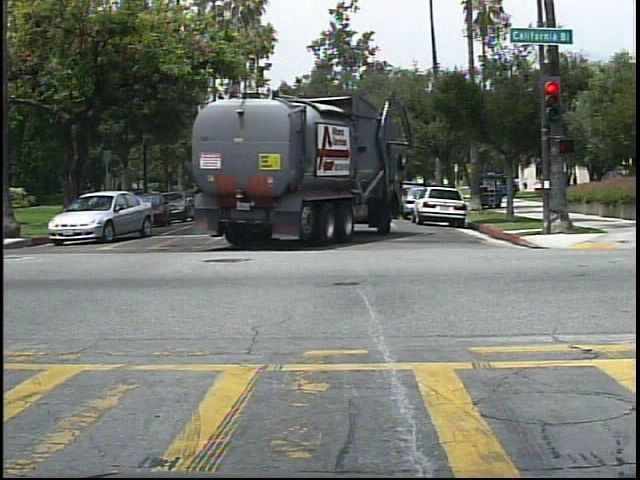person: (566, 168, 584, 198), (520, 174, 534, 194)
